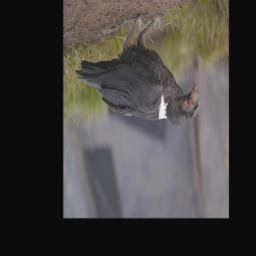Crow: (74, 9, 201, 130)
